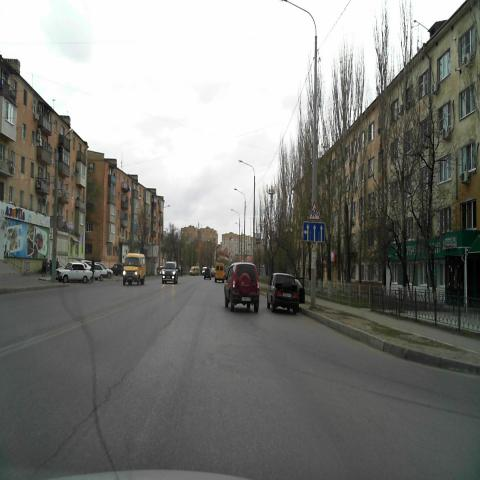5_15_1: (303, 222, 325, 242)
